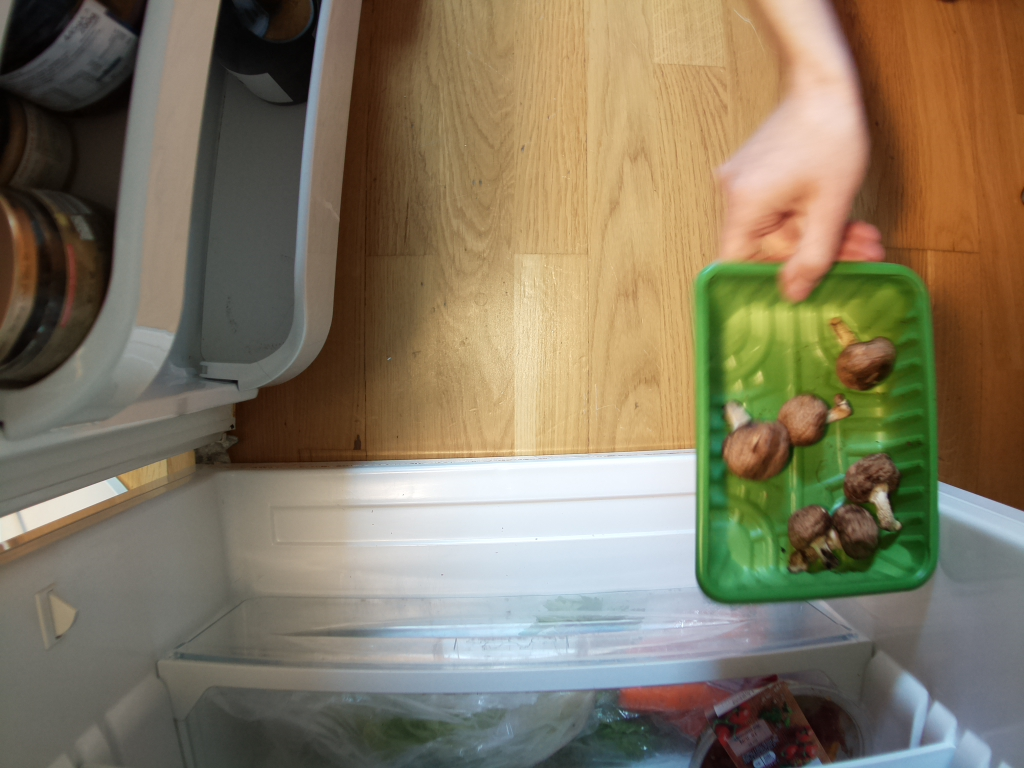mushrooms-bad: (687, 249, 943, 593)
